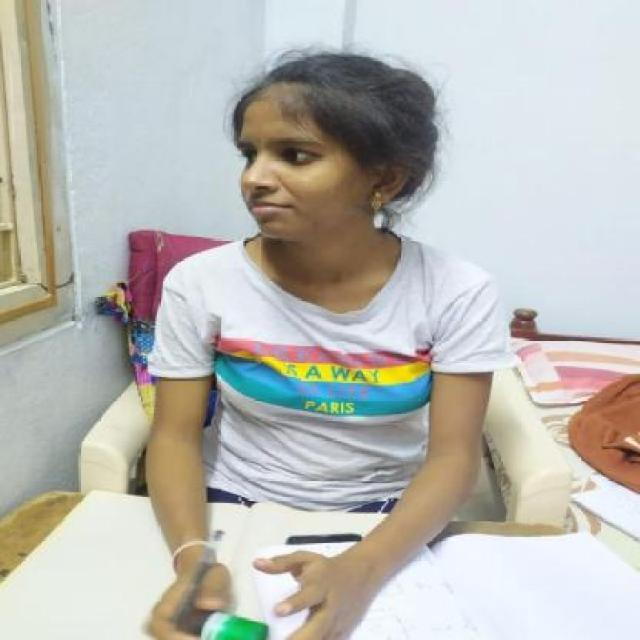cheating: (133, 36, 520, 531)
